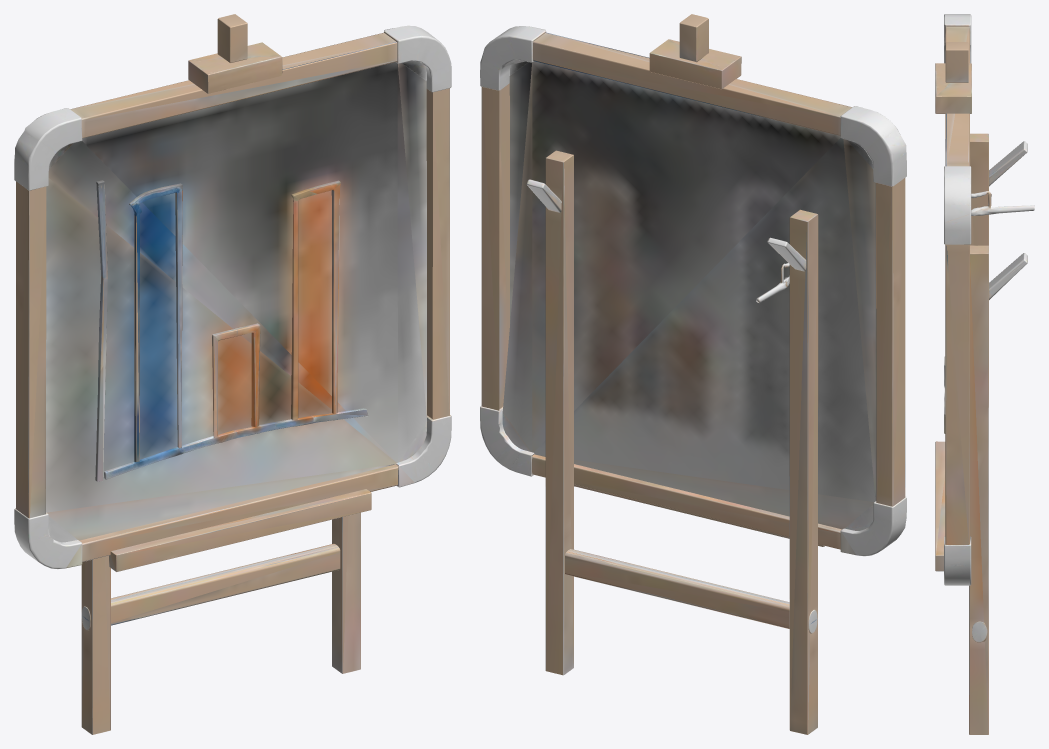
File: easel-board.glb
3 views of the same model, side by side, from view 1: azimuth 30°, elevation 25°; view 2: azimuth 150°, elevation 25°; view 3: azimuth 270°, elevation 25° (orthographic). The views are drawn at different scales.
Size of the model in its own units: 0.6138 by 0.9517 by 0.1363.
1 material, 1 textured.
